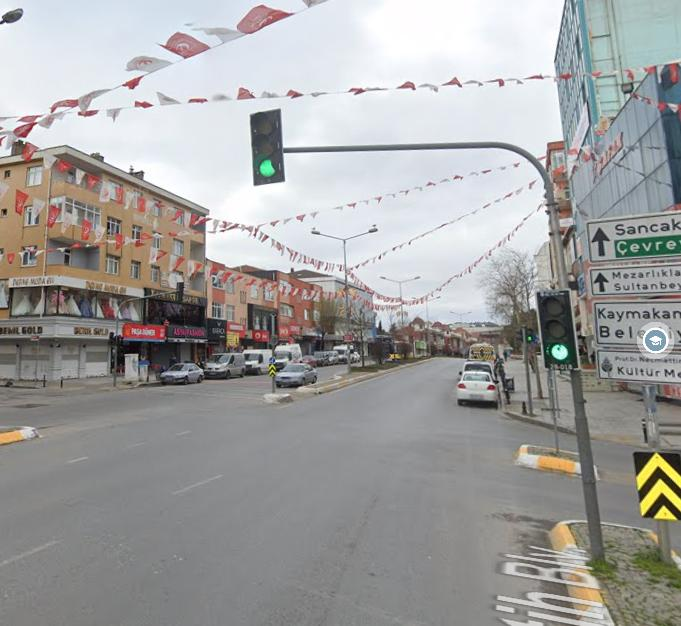greenlight: (535, 289, 587, 375), (249, 109, 287, 186)
